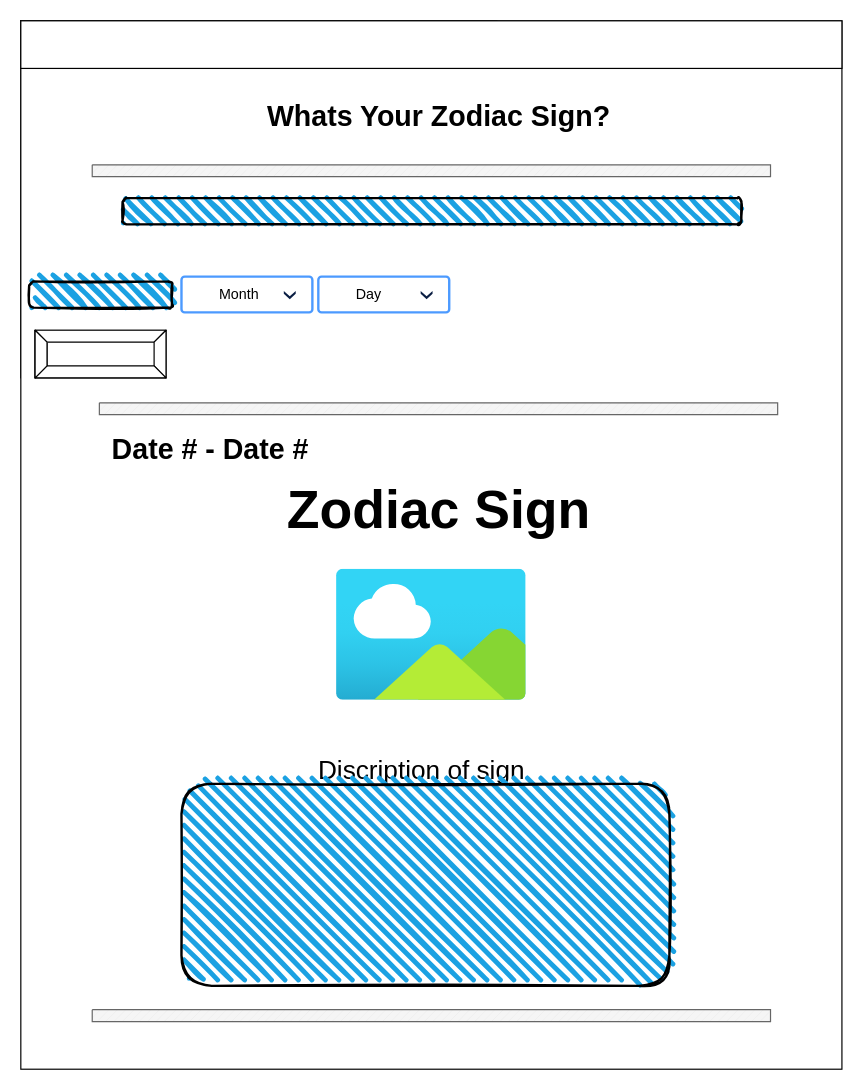
Some shapes in this 863 by 1090 pixel diagram are drawn without their labels. The centre of each missing label's shape, as x and y in pixels:
"Button" goes at point (100, 353).
"Home Page link" goes at point (431, 44).
